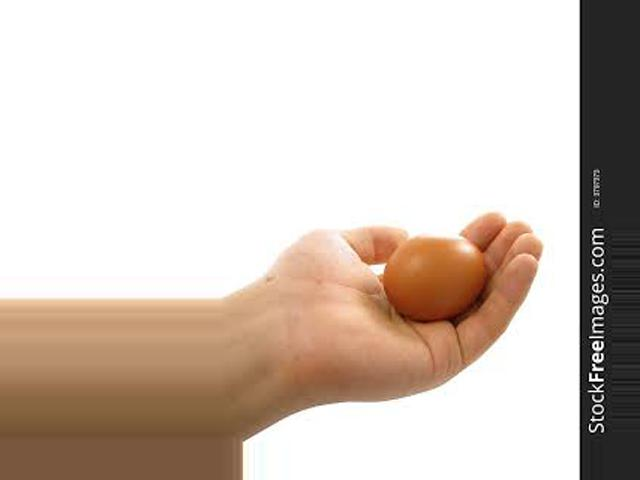egg: (382, 235, 493, 319)
